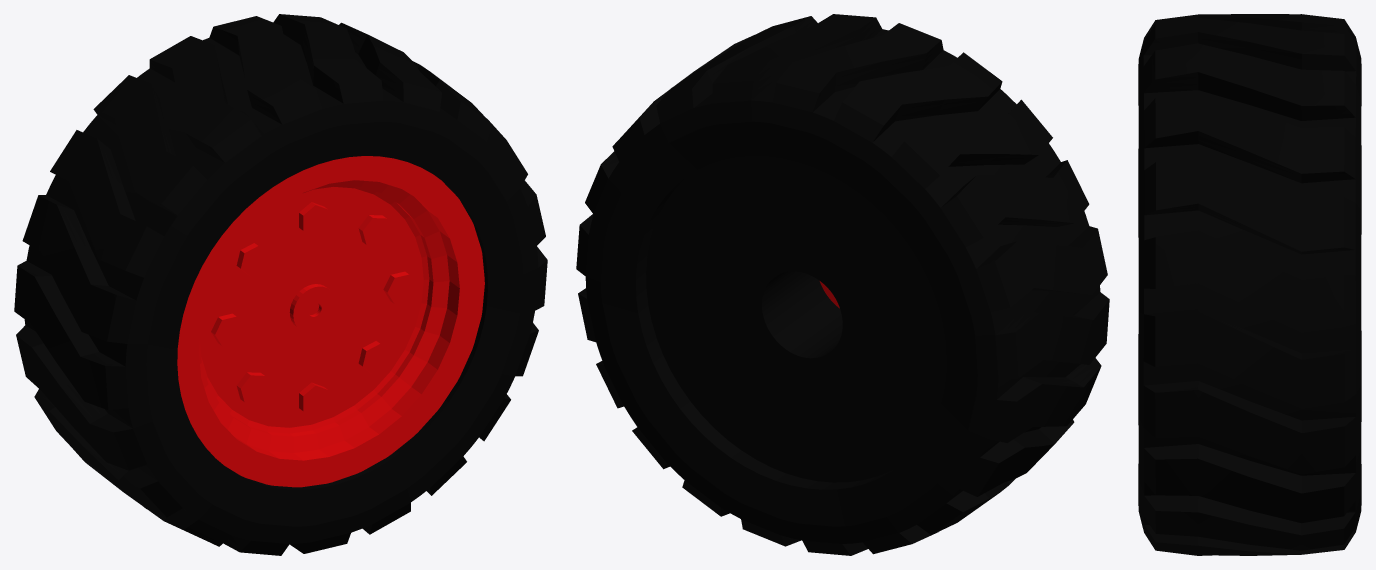
File: wheel.FBX
The picture shows the model from 3 angles, left to right: view 1: azimuth 30°, elevation 25°; view 2: azimuth 150°, elevation 25°; view 3: azimuth 270°, elevation 25°; orthographic projection. The views are drawn at different scales.
Parts seen in each view (by area): view 1: rubber, plastic; view 2: rubber; view 3: rubber.
Boxes of the visible parts, x1=… form: rubber: x1=14, y1=14, x2=547, y2=555; plastic: x1=177, y1=156, x2=484, y2=487; rubber: x1=576, y1=14, x2=1109, y2=555; rubber: x1=1138, y1=14, x2=1361, y2=555.
Size of the model in its own units: 42.43 by 42.43 by 17.47.
